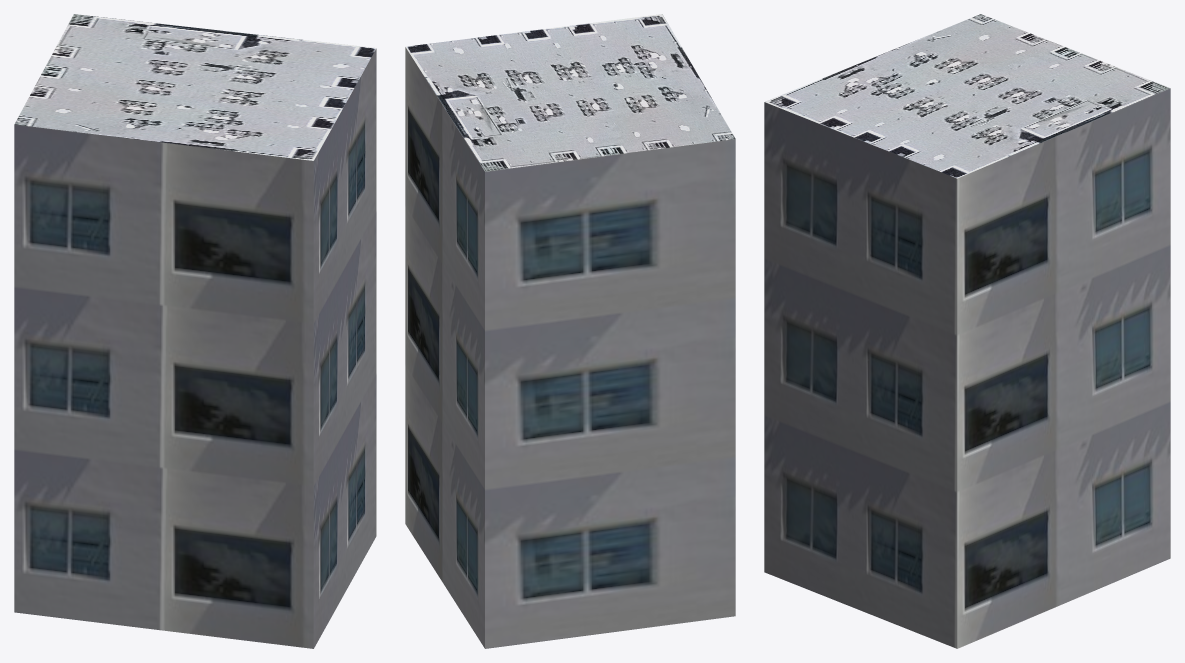
File: ResTex__1428.fbx
3 views of the same model, side by side, from view 1: azimuth 30°, elevation 25°; view 2: azimuth 150°, elevation 25°; view 3: azimuth 270°, elevation 25° (orthographic). The views are drawn at different scales.
Parts seen in each view (by area): view 1: CityEngineMaterial_10_m, CityEngineMaterial_m; view 2: CityEngineMaterial_10_m, CityEngineMaterial_m; view 3: CityEngineMaterial_10_m, CityEngineMaterial_m.
Part boxes in pixels (bbox=[...]): CityEngineMaterial_10_m: bbox=[14, 48, 376, 648]; CityEngineMaterial_m: bbox=[14, 14, 376, 160]; CityEngineMaterial_10_m: bbox=[405, 47, 735, 648]; CityEngineMaterial_m: bbox=[405, 14, 735, 171]; CityEngineMaterial_10_m: bbox=[764, 88, 1170, 648]; CityEngineMaterial_m: bbox=[765, 14, 1169, 178].
Bounding box in the file's own units: 6.76 × 9 × 7.04.
2 materials, 2 textured.
